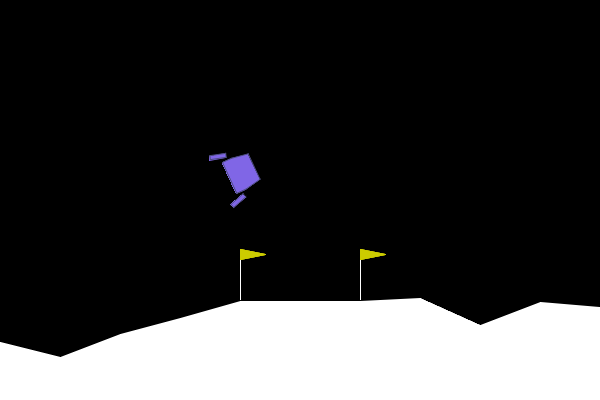lander: (207, 139, 268, 210)
